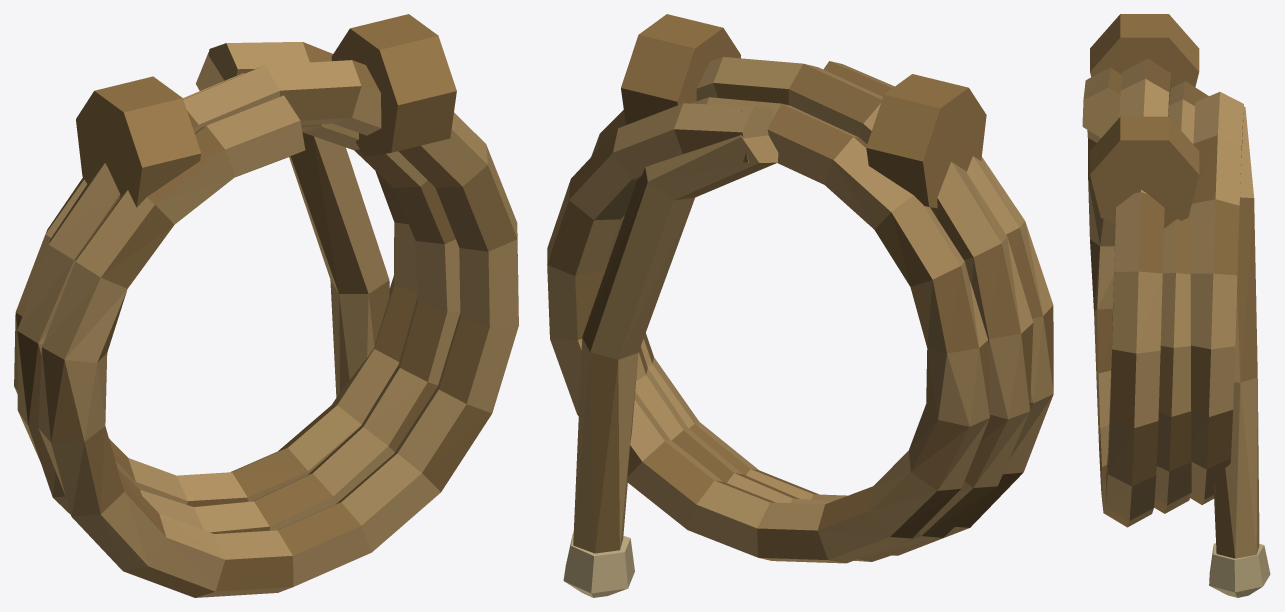
File: held_rope.glb
3 renders of one model, left to right at view 1: azimuth 30°, elevation 25°; view 2: azimuth 150°, elevation 25°; view 3: azimuth 270°, elevation 25°, orthographic. The views are drawn at different scales.
Parts seen in each view (by area): view 1: held_rope; view 2: held_rope; view 3: held_rope.
Part boxes in pixels (bbox=[...]): held_rope: bbox=[14, 14, 518, 597]; held_rope: bbox=[547, 14, 1053, 597]; held_rope: bbox=[1082, 14, 1270, 597].
Size of the model in its own units: 0.492 by 0.5345 by 0.2012.
